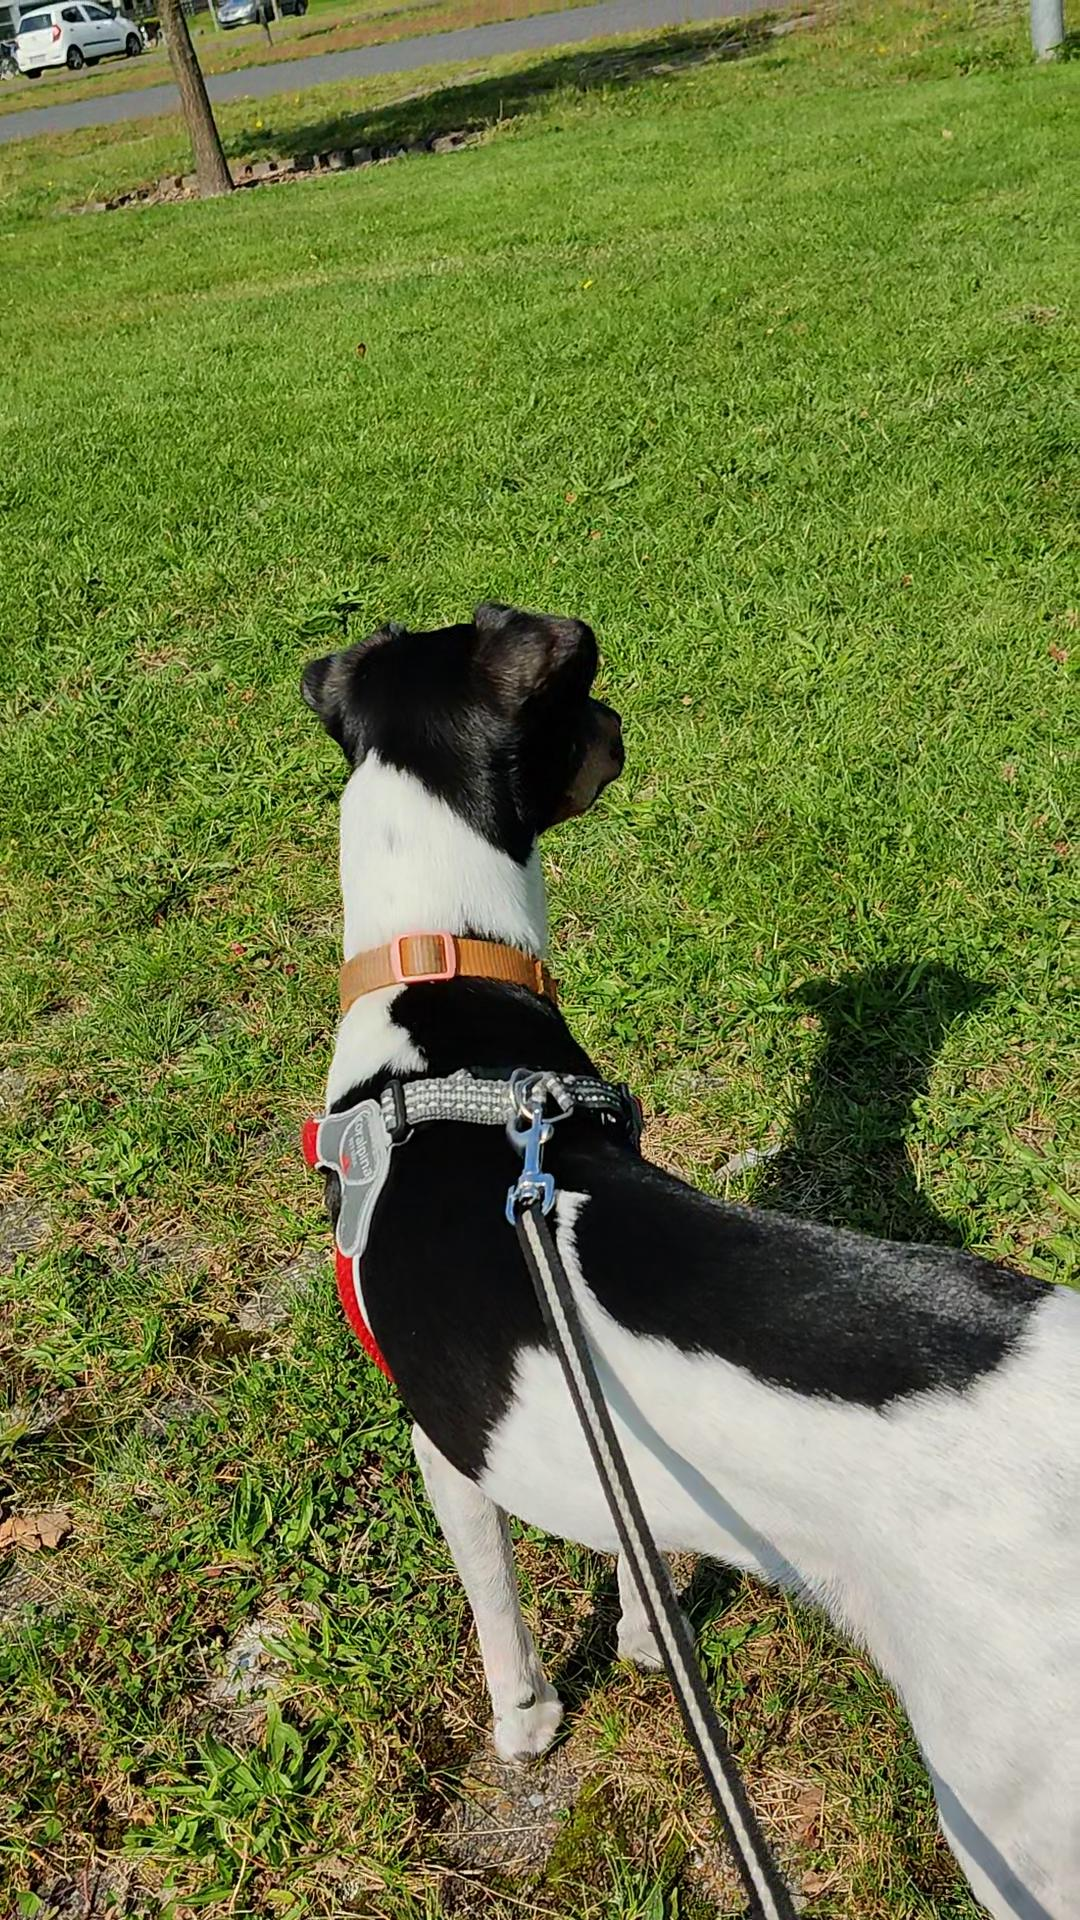Dog: (291, 597, 1079, 1919)
